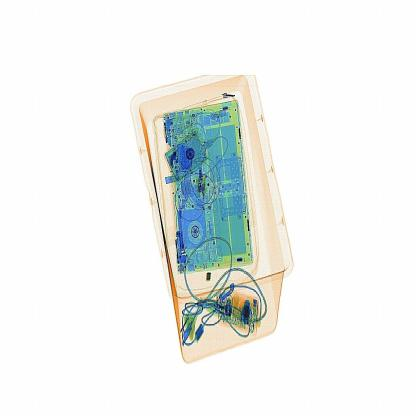wrench: (198, 265, 221, 291)
